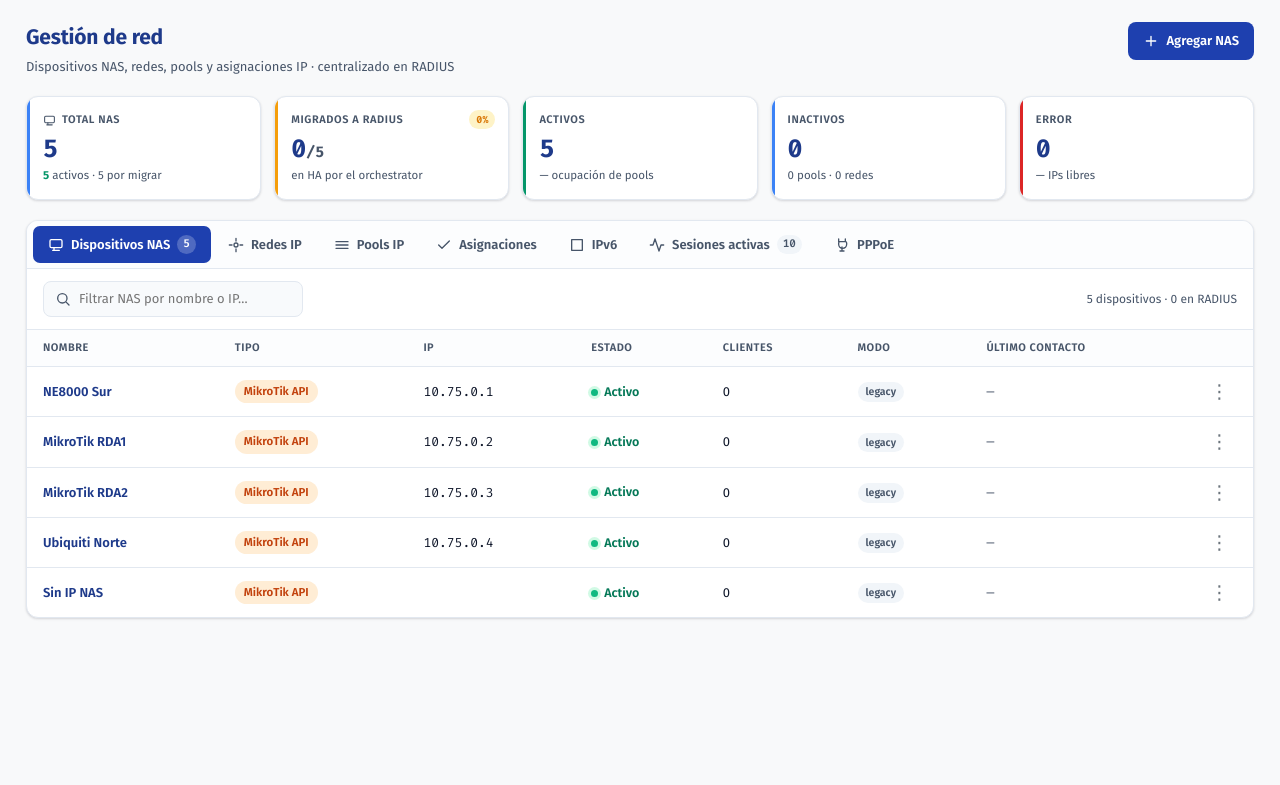
Test: GestionRedPage — F1: dropdown de NAS de Sesiones desde fuente estable › F1-c: NAS servers sin nasIpAddress se omiten del dropdown
Click the button "Sesiones activas 10" at (726, 245), box top-left (634, 226), bottom-right (817, 263)
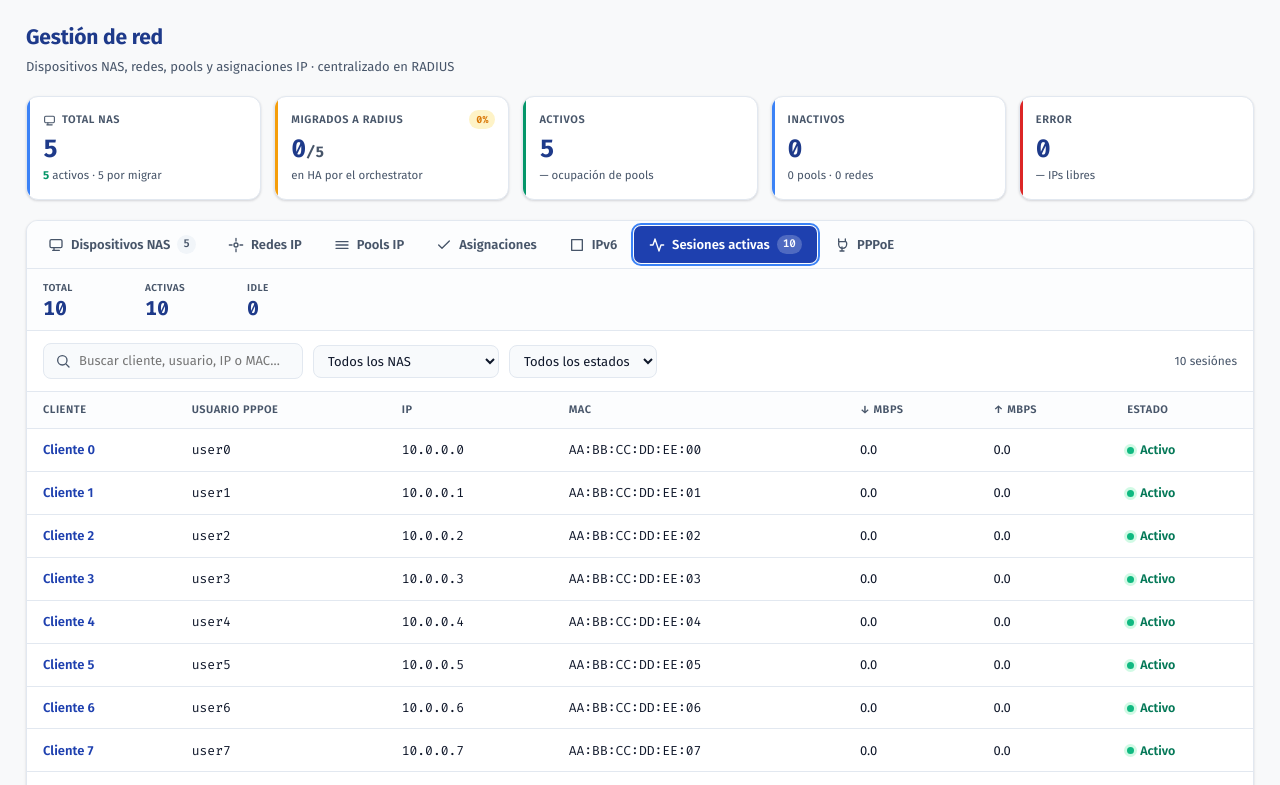
Check: the text "Sin IP NAS" is gone
